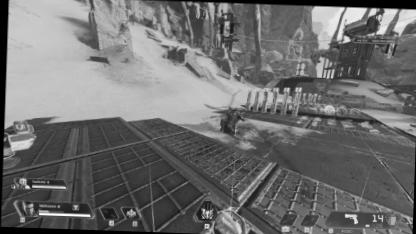Target: (220, 107, 244, 138)
